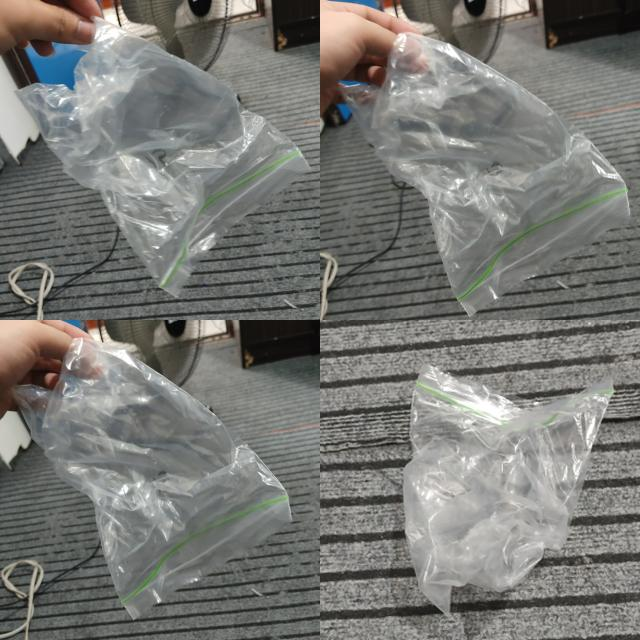Single-layer Plastic: (341, 34, 630, 315), (19, 19, 309, 295), (12, 339, 291, 619), (404, 365, 614, 615)
